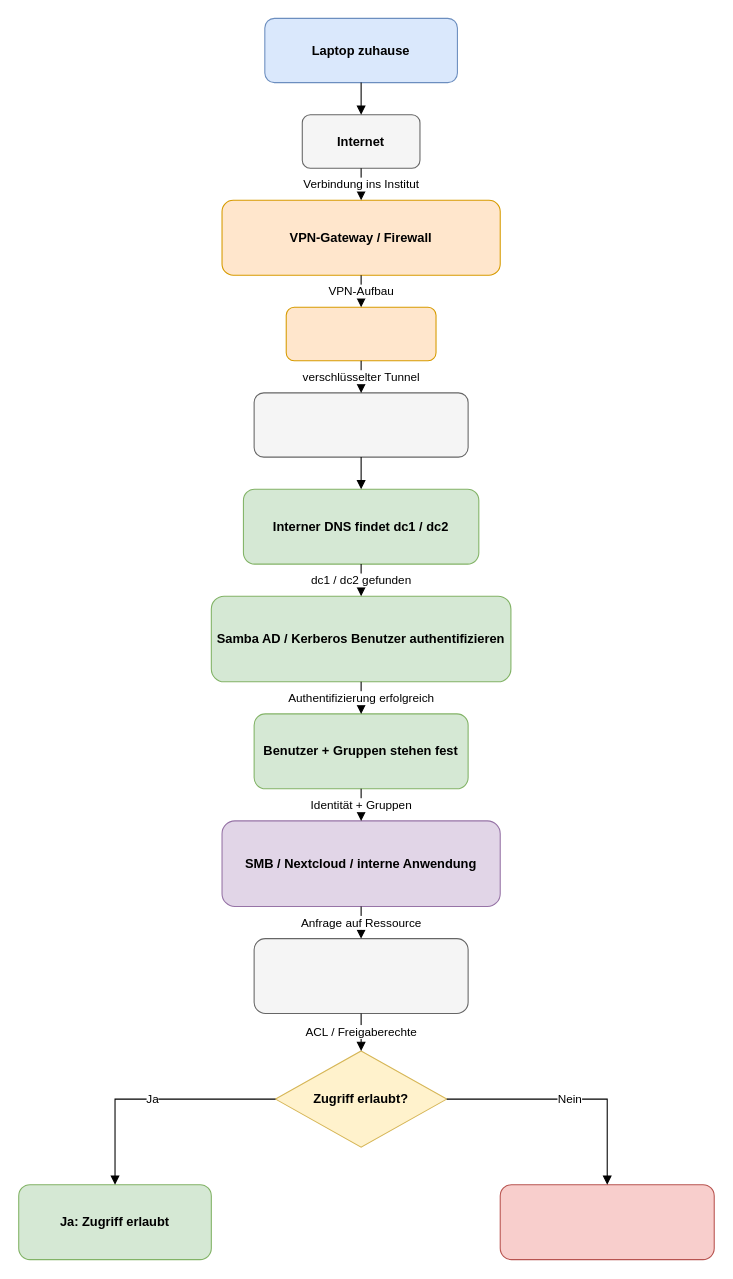
Image size: 733x1279. Some labels were removed from this diagram. Each missing label, with the centre of its shape:
"Berechtigungen prüfen" belongs at point (360, 976).
"Internes Netzwerk" belongs at point (360, 424).
"Nein: Zugriff verweigert" belongs at point (606, 1222).
"VPN-Tunnel" belongs at point (360, 333).
